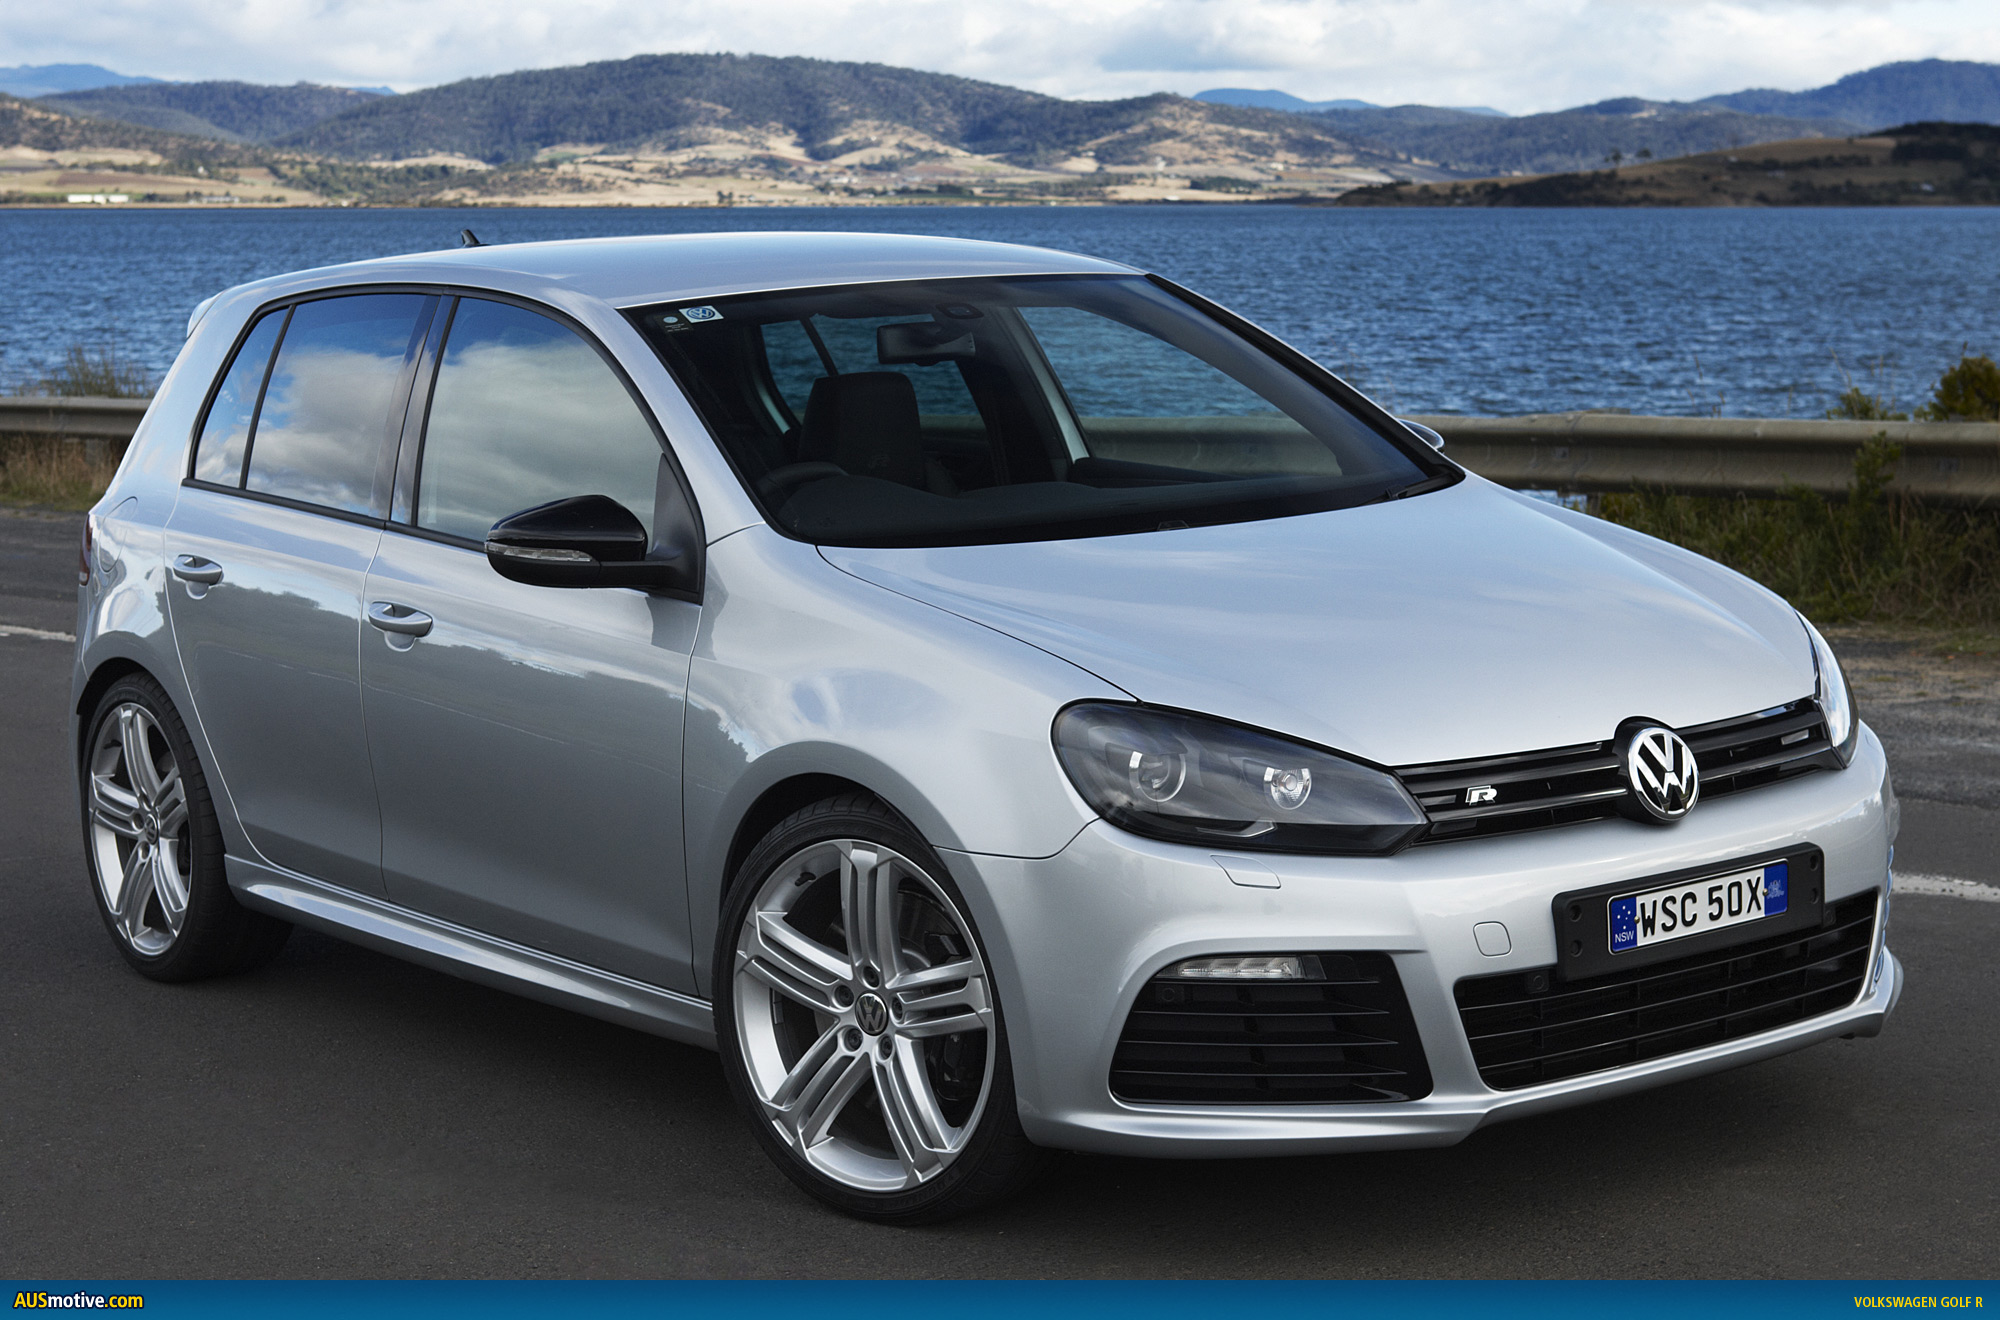front_view: (1, 46, 143, 130)
headlight: (54, 49, 125, 82)
side_glass: (172, 0, 252, 37)
